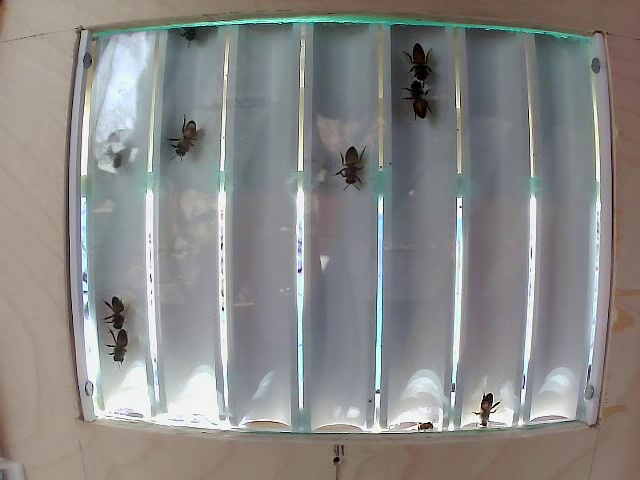bee: (167, 120, 220, 173), (332, 132, 370, 192), (401, 76, 438, 133), (98, 129, 137, 183), (402, 41, 437, 87), (470, 384, 508, 422), (99, 290, 136, 328), (94, 323, 133, 354)
